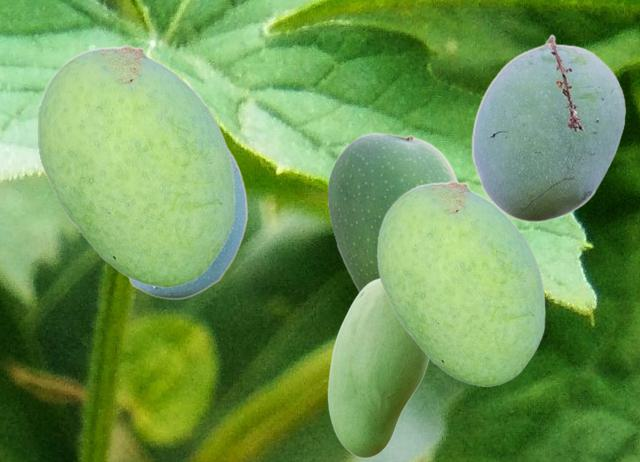green_mango: (37, 44, 234, 286), (377, 180, 544, 385), (471, 34, 625, 221), (327, 132, 459, 291), (126, 148, 247, 299), (327, 278, 429, 457)
